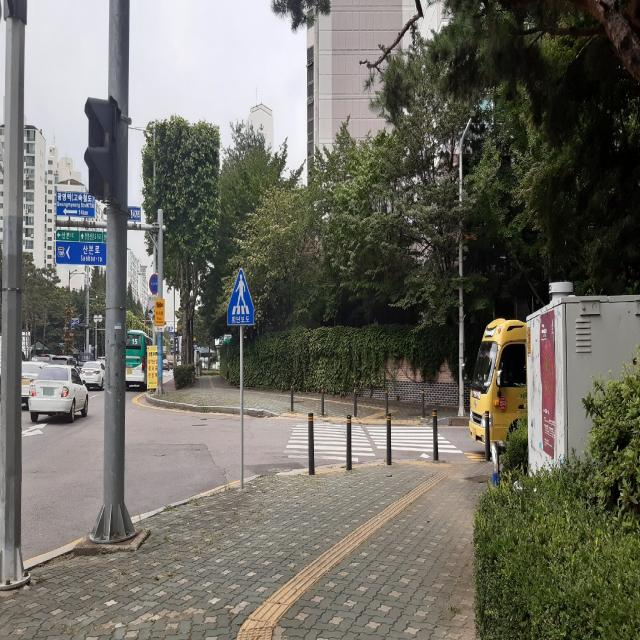횡단보도: (282, 422, 464, 463)
